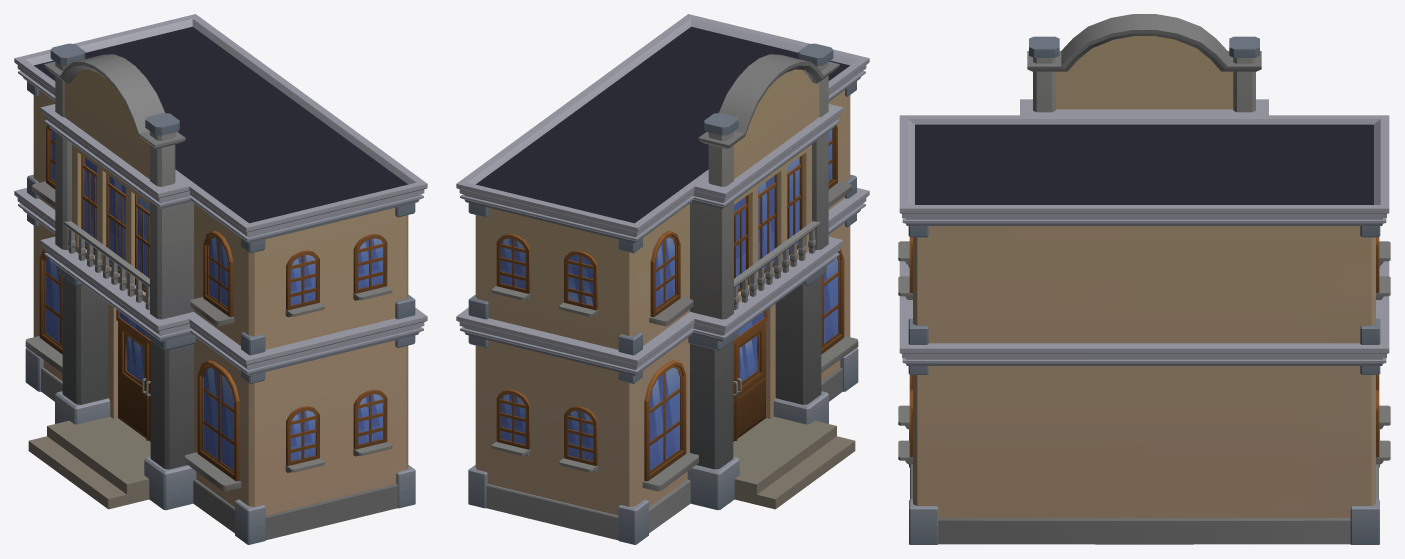
Rendered from Building_24_A.fbx.
3 views of the same model, side by side, from view 1: azimuth 30°, elevation 25°; view 2: azimuth 150°, elevation 25°; view 3: azimuth 270°, elevation 25° (orthographic). The views are drawn at different scales.
Parts seen in each view (by area): view 1: Building_24_A; view 2: Building_24_A; view 3: Building_24_A.
Part boxes in pixels (x1,y1,x2,y2): Building_24_A: (14,14,427,544); Building_24_A: (456,14,869,544); Building_24_A: (898,14,1390,544).
Size of the model in its own units: 535 by 847 by 888.
